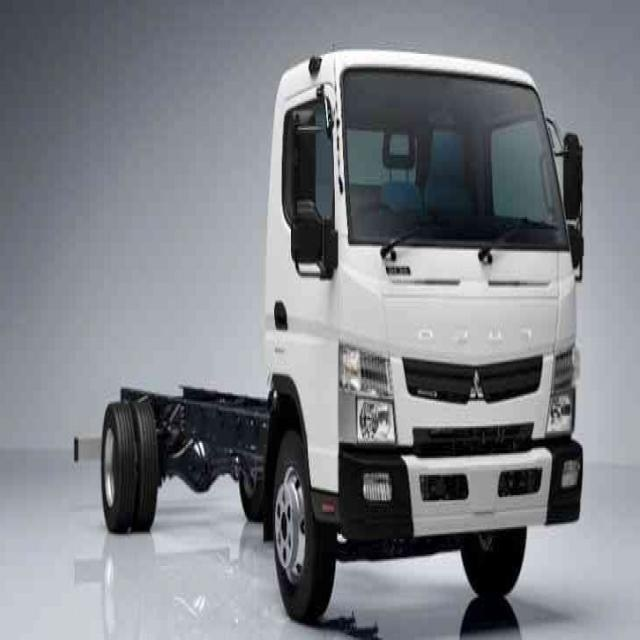Truck: (75, 45, 582, 625)
